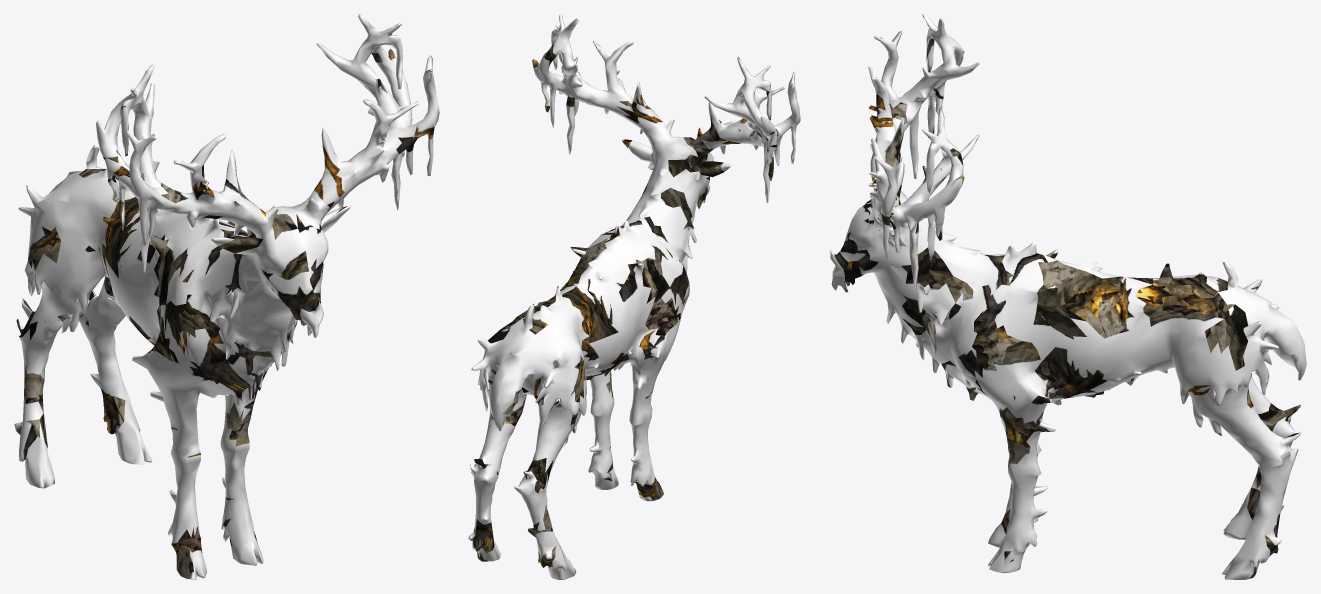
The model's file is rotleaf_stag_gold_10k.fbx.
The picture shows the model from 3 angles, left to right: view 1: azimuth 30°, elevation 25°; view 2: azimuth 150°, elevation 25°; view 3: azimuth 270°, elevation 25°; orthographic projection. The views are drawn at different scales.
Parts seen in each view (by area): view 1: rotleaf_stag_gold_decimated; view 2: rotleaf_stag_gold_decimated; view 3: rotleaf_stag_gold_decimated.
Boxes of the visible parts, x1,y1,x2,y2 form: rotleaf_stag_gold_decimated: (14,14,439,579); rotleaf_stag_gold_decimated: (468,14,800,579); rotleaf_stag_gold_decimated: (829,14,1306,579).
Size of the model in its own units: 1.11 by 1.91 by 1.67.
